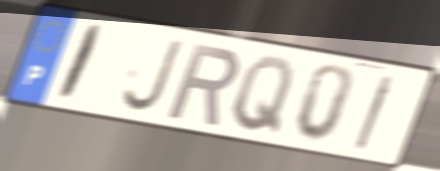0: (291, 62, 357, 146)
I: (52, 22, 107, 105), (351, 72, 399, 153)
J: (119, 36, 186, 115)
Q: (228, 53, 297, 137)
R: (164, 40, 244, 129)
